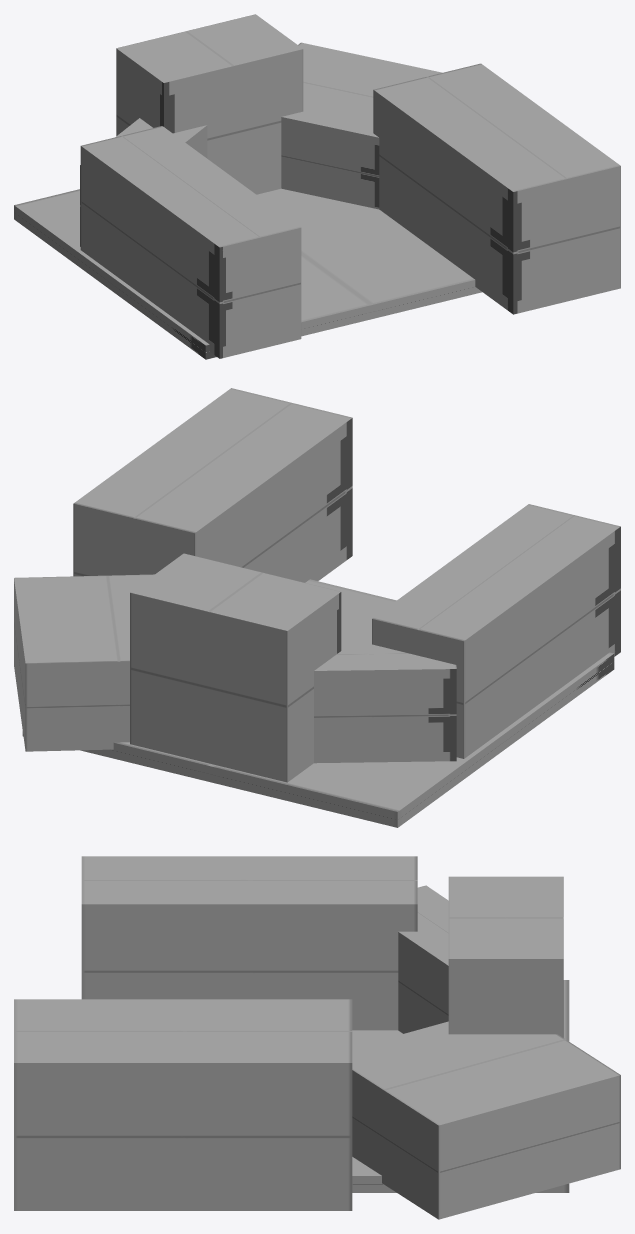
3 renders of one model, top to bottom at view 1: azimuth 30°, elevation 25°; view 2: azimuth 150°, elevation 25°; view 3: azimuth 270°, elevation 25°, orthographic. The views are drawn at different scales.
Parts seen in each view (by area): view 1: level; view 2: level; view 3: level.
Boxes of the visible parts, bbox=[...] form: level: bbox=[14, 14, 620, 359]; level: bbox=[14, 388, 620, 827]; level: bbox=[14, 856, 620, 1219].
Size of the model in its own units: 58.2 by 20.93 by 64.26.
3 materials, 3 textured.
